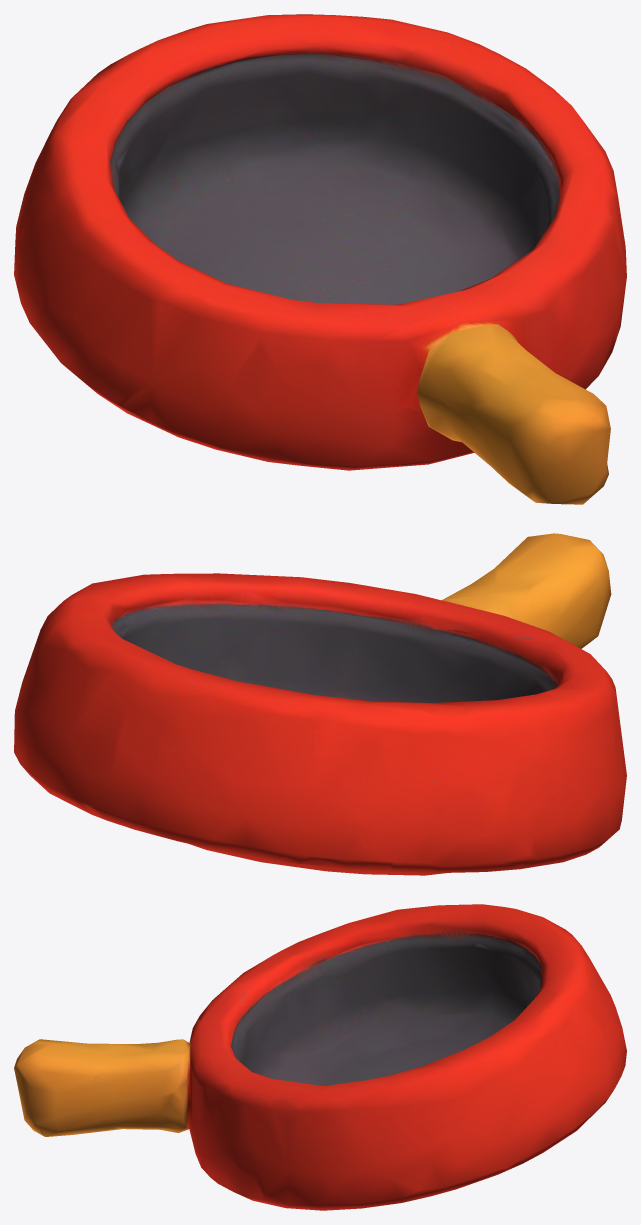
Rendered from pan.glb.
3 renders of one model, top to bottom at view 1: azimuth 30°, elevation 25°; view 2: azimuth 150°, elevation 25°; view 3: azimuth 270°, elevation 25°, orthographic. The views are drawn at different scales.
Parts seen in each view (by area): view 1: tripo_node_fc5ce537-d232-4056-8d1b-163294a66be2; view 2: tripo_node_fc5ce537-d232-4056-8d1b-163294a66be2; view 3: tripo_node_fc5ce537-d232-4056-8d1b-163294a66be2.
Part boxes in pixels (x1,y1,x2,y2): tripo_node_fc5ce537-d232-4056-8d1b-163294a66be2: (14,14,626,504); tripo_node_fc5ce537-d232-4056-8d1b-163294a66be2: (14,533,626,875); tripo_node_fc5ce537-d232-4056-8d1b-163294a66be2: (14,904,626,1210).
Size of the model in its own units: 0.7624 by 0.3513 by 1.
1 material, 1 textured.
